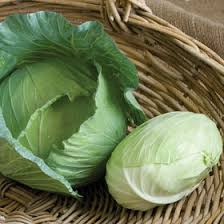cabbage: (5, 38, 132, 192), (107, 114, 224, 211)
